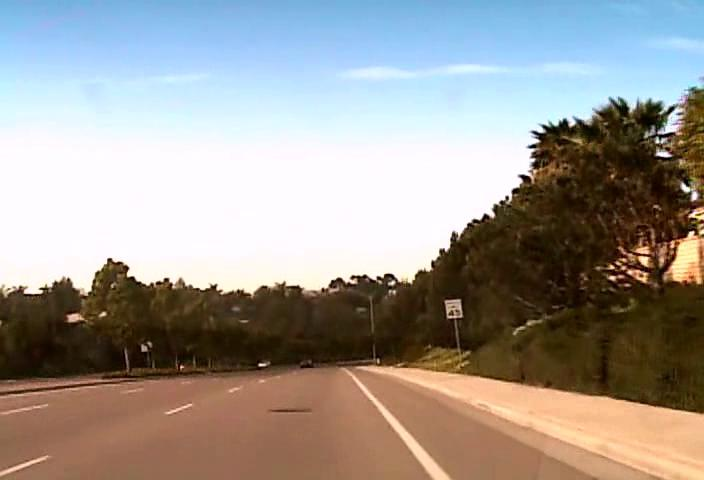speedLimit45: (444, 298, 463, 319)
